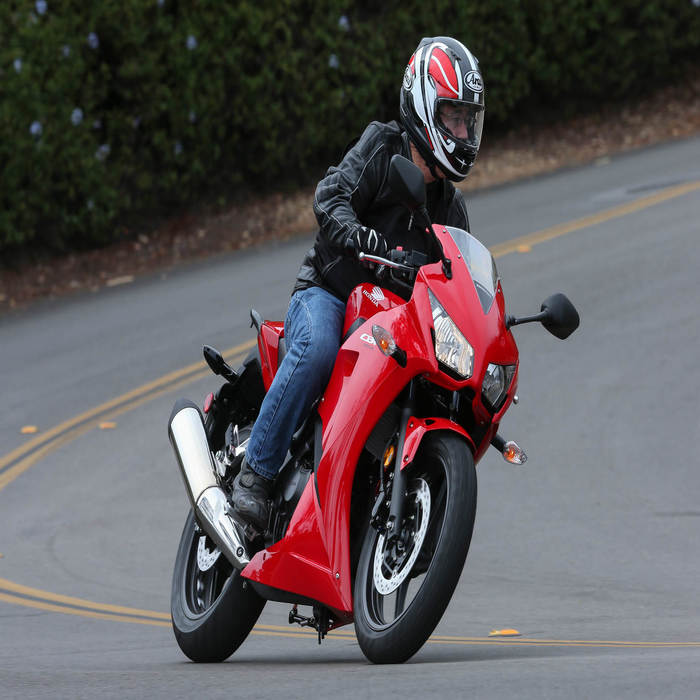h: (396, 28, 493, 192)
